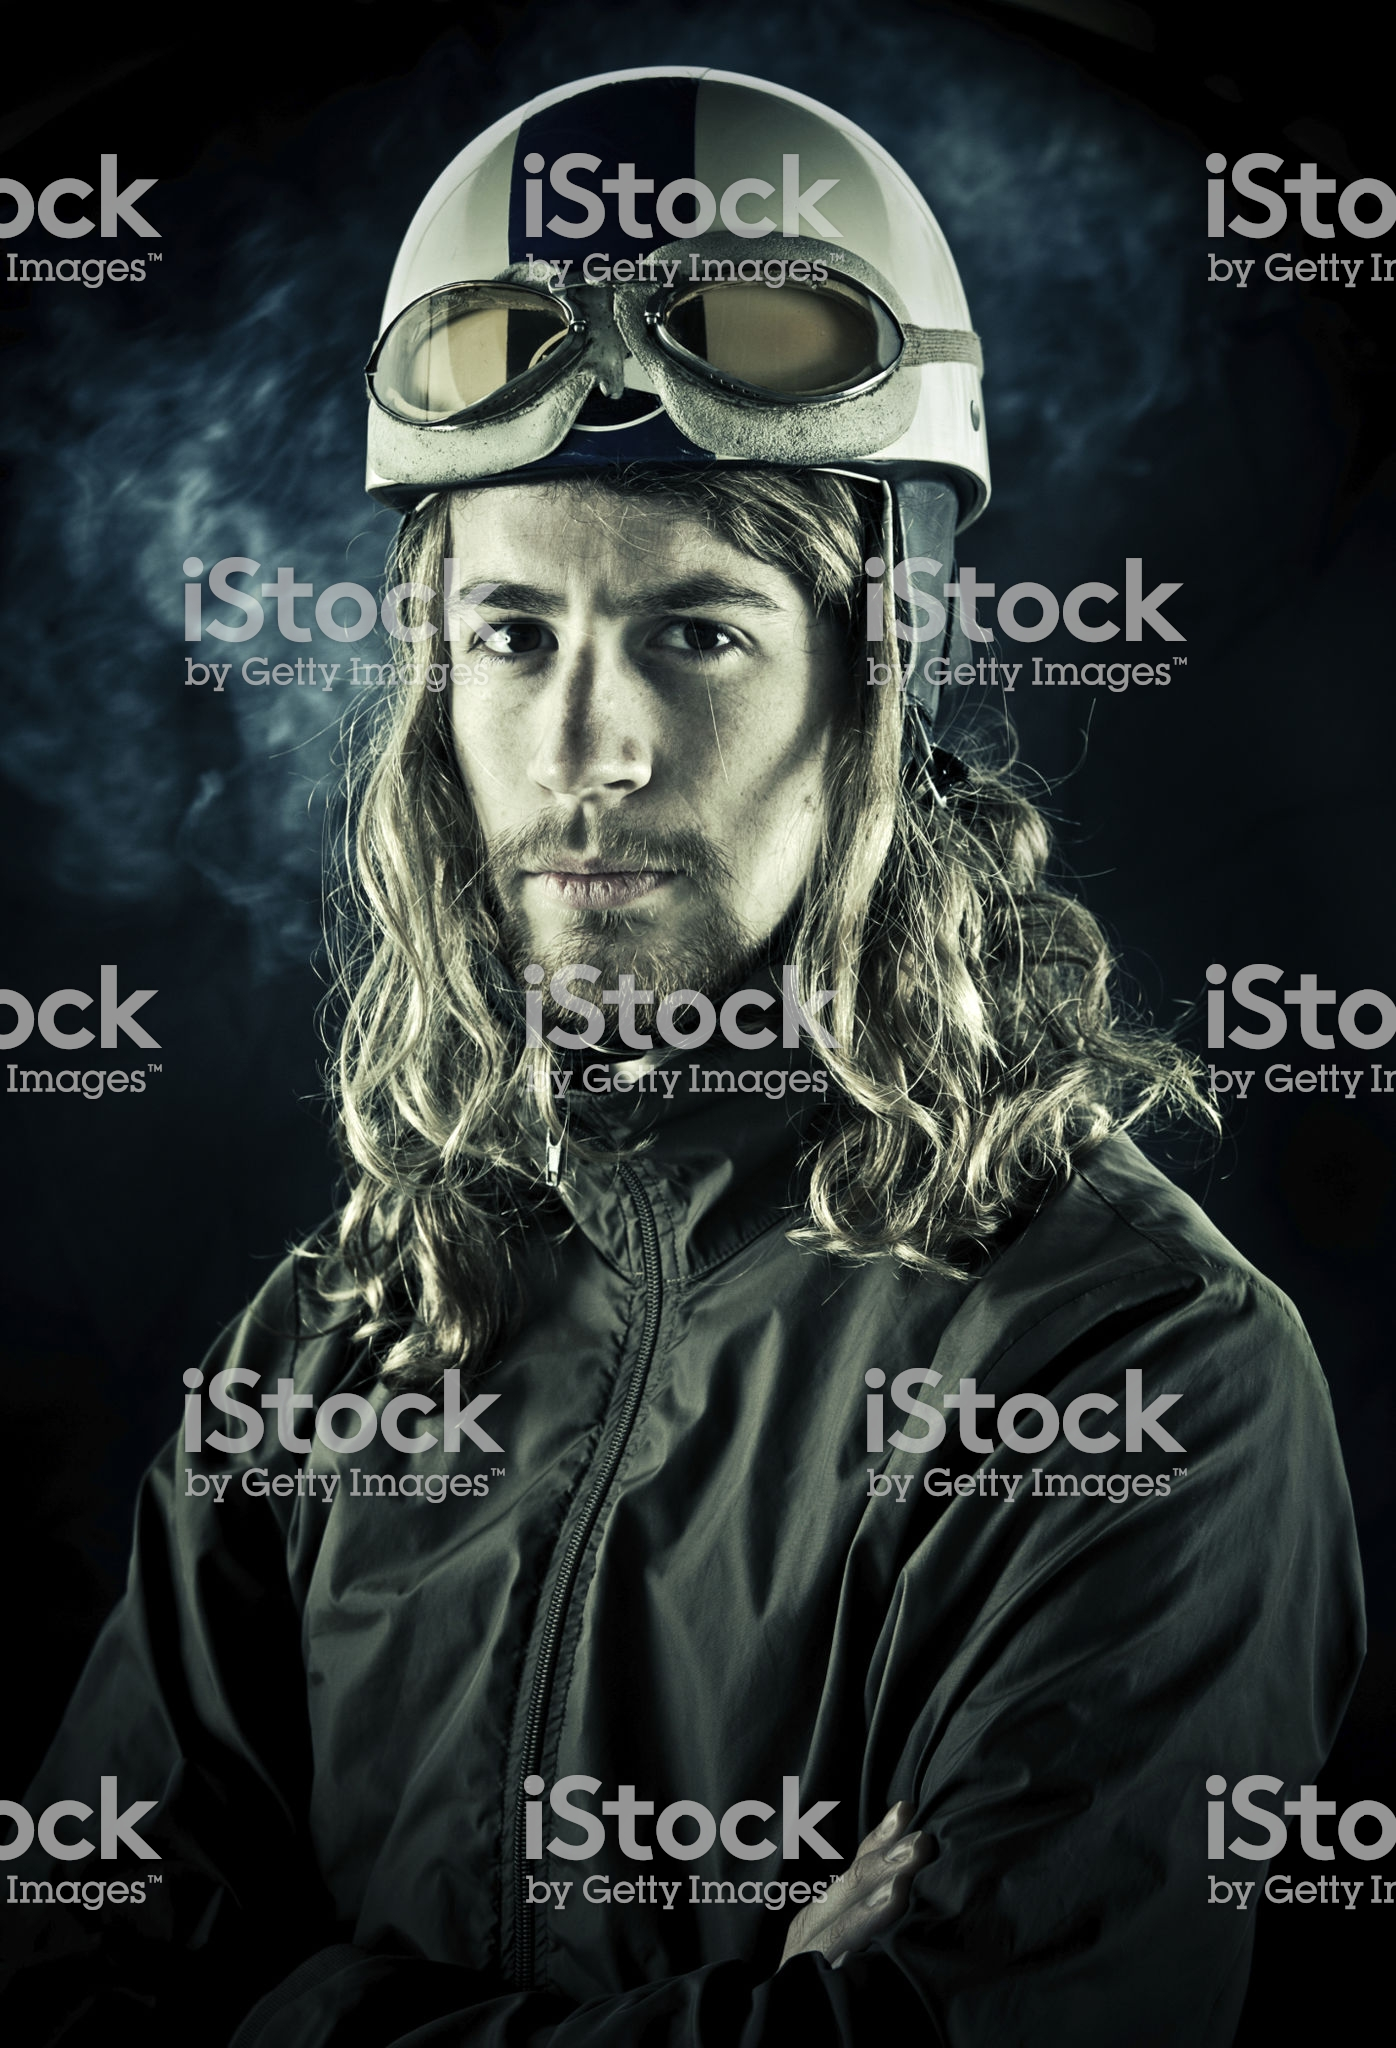helmet: (328, 65, 1013, 481)
